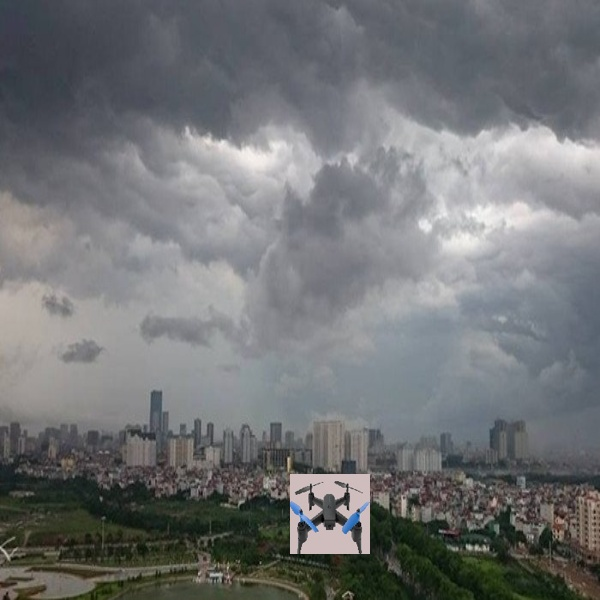drone: (290, 467, 368, 554)
